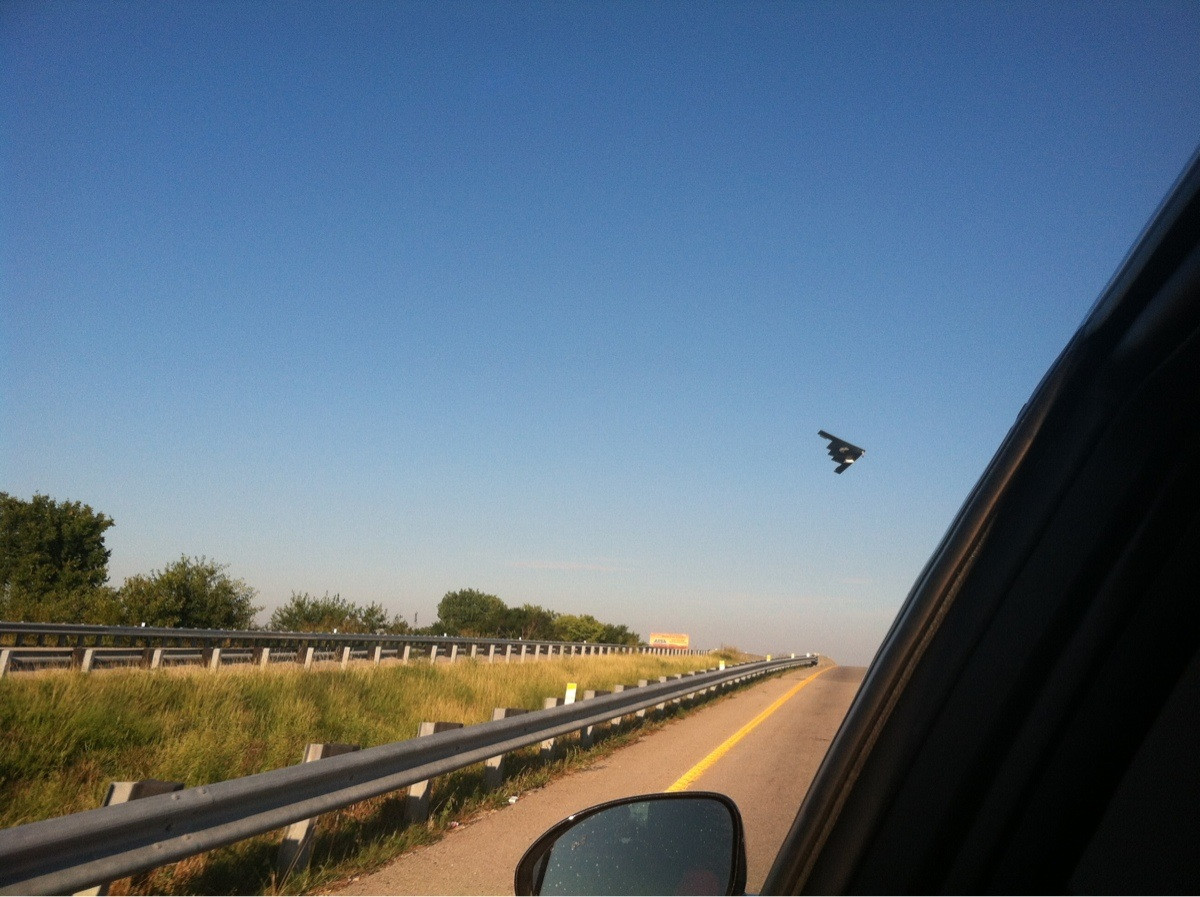B2: (817, 429, 866, 474)
